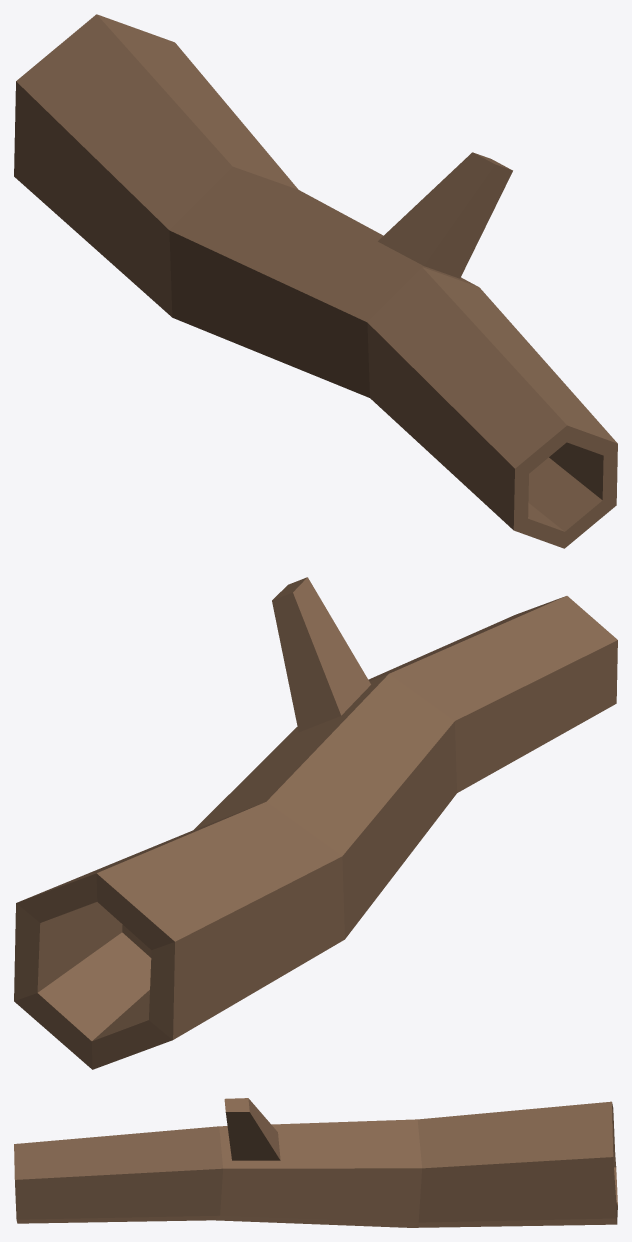
Rendered from Log 1.fbx.
3 renders of one model, top to bottom at view 1: azimuth 30°, elevation 25°; view 2: azimuth 150°, elevation 25°; view 3: azimuth 270°, elevation 25°, orthographic. The views are drawn at different scales.
Visible parts, largest first — view 1: Log 1; view 2: Log 1; view 3: Log 1.
Part boxes in pixels (left/top/right/bottom): Log 1: left=14, top=14, right=617, bottom=548; Log 1: left=14, top=577, right=617, bottom=1069; Log 1: left=14, top=1098, right=617, bottom=1227.
Bounding box in the file's own units: 51.71 × 63.77 × 214.
1 material, 1 textured.
